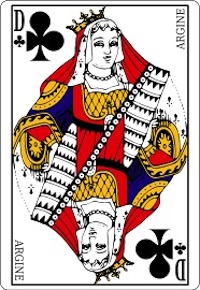QueenOfClubs: (8, 3, 195, 289)
